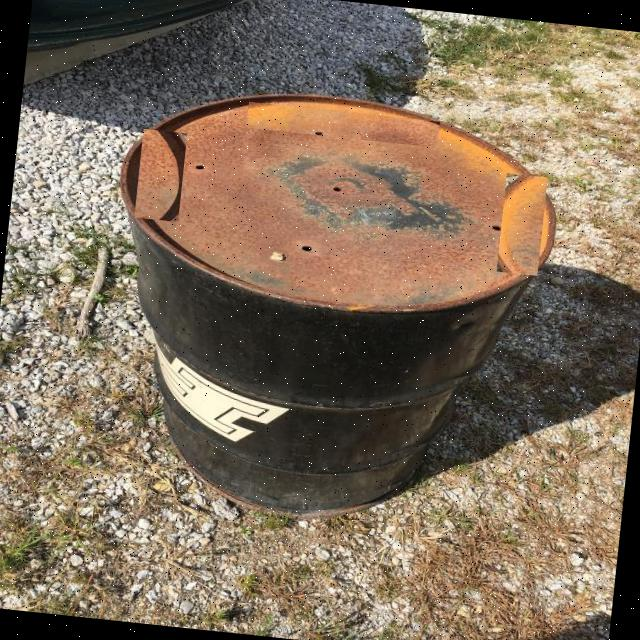Corrosion: (121, 74, 558, 328)
